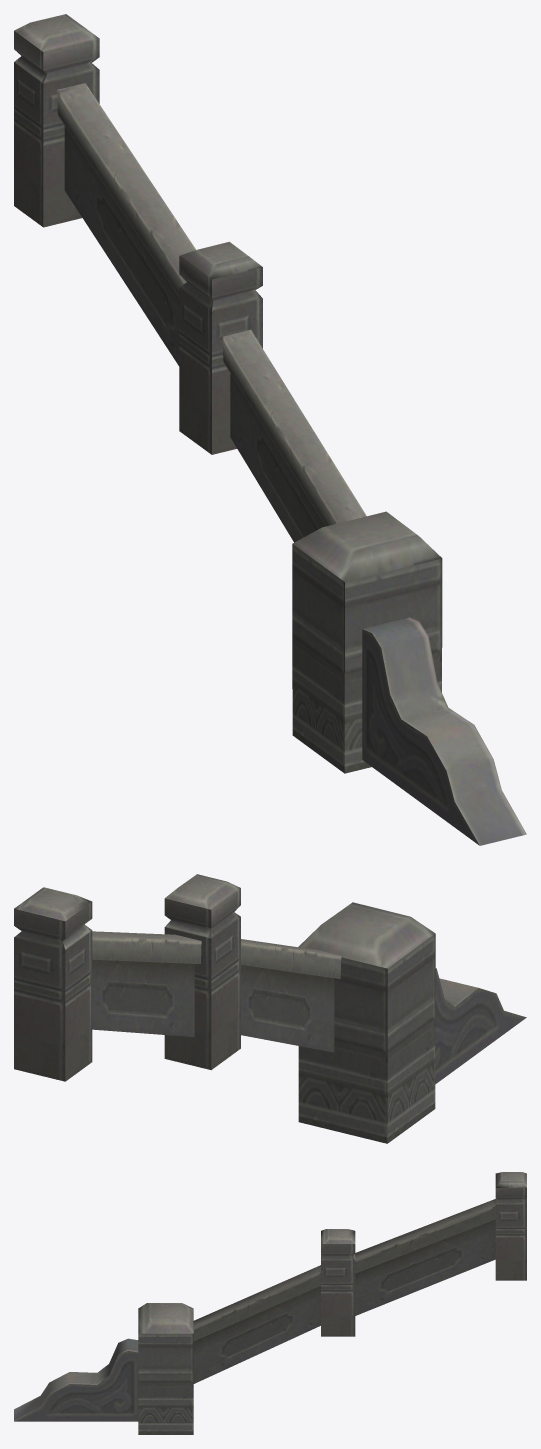
The model's file is bujian_05.fbx.
3 views of the same model, one above another, from view 1: azimuth 30°, elevation 25°; view 2: azimuth 150°, elevation 25°; view 3: azimuth 270°, elevation 25° (orthographic). The views are drawn at different scales.
Visible parts, largest first — view 1: pasted__polySurface4133; view 2: pasted__polySurface4133; view 3: pasted__polySurface4133.
Boxes of the visible parts, bbox=[...] form: pasted__polySurface4133: bbox=[14, 14, 526, 845]; pasted__polySurface4133: bbox=[14, 874, 526, 1143]; pasted__polySurface4133: bbox=[14, 1172, 526, 1434].
Size of the model in its own units: 0.9994 by 4.63 by 8.6.
1 material, 1 textured.
